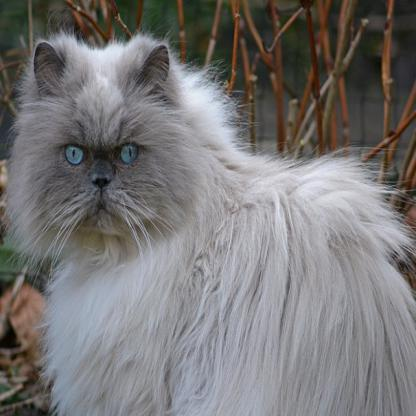cat: (9, 33, 416, 415)
